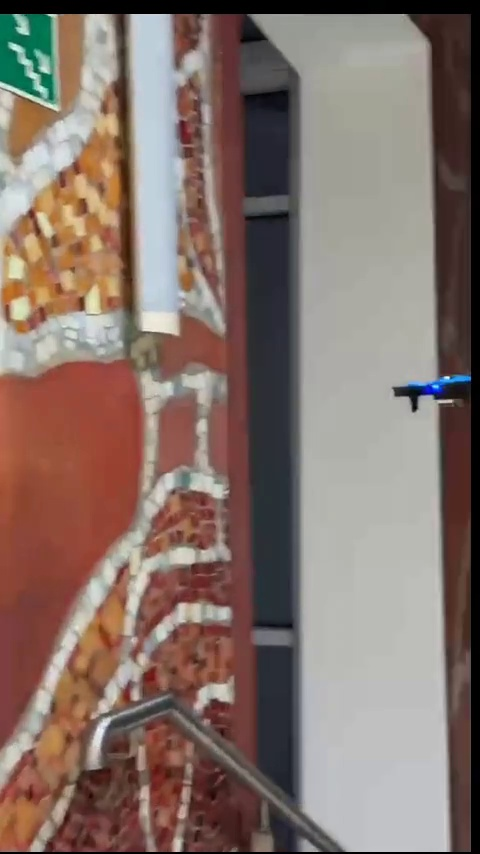drone: (394, 370, 472, 409)
